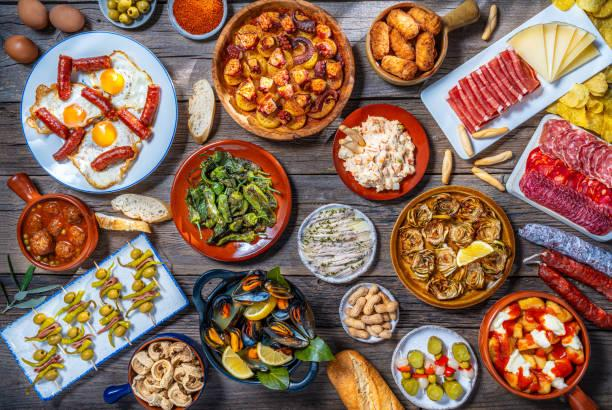Braised Crucian Carp: (19, 30, 177, 195), (211, 1, 350, 142), (390, 187, 512, 308), (170, 138, 288, 261), (478, 290, 590, 402), (335, 102, 427, 199), (365, 1, 448, 87), (14, 192, 95, 271), (123, 333, 207, 408)
